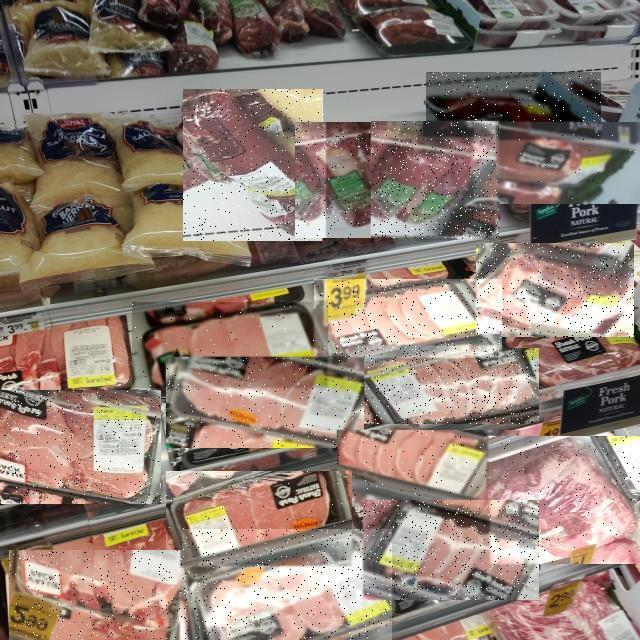Meat: (182, 529, 392, 640), (184, 89, 326, 241), (490, 436, 640, 564), (0, 390, 161, 504), (166, 357, 364, 448), (167, 471, 353, 566), (363, 500, 539, 600), (132, 302, 328, 388), (10, 550, 184, 640), (372, 122, 500, 240), (476, 243, 634, 337), (315, 280, 503, 358), (349, 349, 539, 425), (338, 430, 524, 507), (477, 122, 640, 204), (426, 72, 601, 140), (298, 123, 395, 239)
